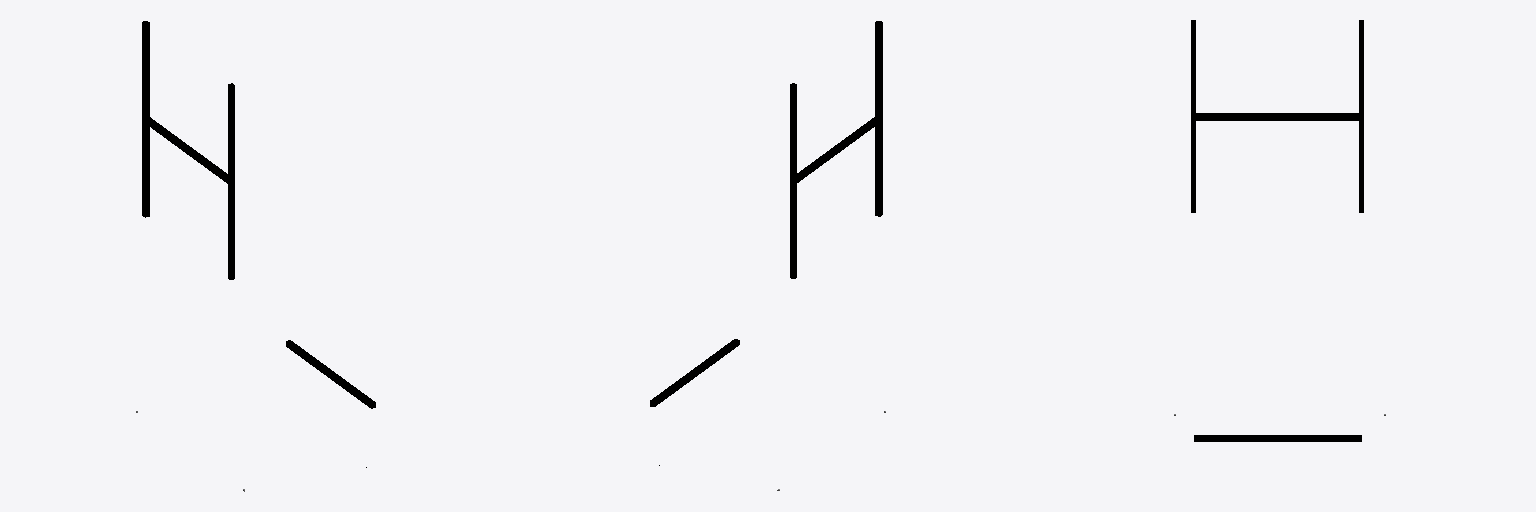
URDF robot description (wheelchair2):
<?xml version="1.0" ?>
<!-- =================================================================================== -->
<!-- |    This document was autogenerated by xacro from wheelchair2_camera_lidar.urdf.xacro | -->
<!-- |    EDITING THIS FILE BY HAND IS NOT RECOMMENDED                                 | -->
<!-- =================================================================================== -->
<robot name="wheelchair2">
  <material name="grey">
    <color rgba="0.5 0.5 0.5 1.0"/>
  </material>
  <material name="black">
    <color rgba="0.0 0.0 0.0 1.0"/>
  </material>
  <material name="red">
    <color rgba="1.0 0.0 0.0 1.0"/>
  </material>
  <material name="green">
    <color rgba="0.0 1.0 0.0 1.0"/>
  </material>
  <gazebo>
    <!-- 	<plugin name='diff_drive' filename='libgazebo_ros_diff_drive.so'> -->
    <!-- 		<left_joint>chassis_to_left_wheel</left_joint> -->
    <!-- 		<right_joint>chassis_to_right_wheel</right_joint> -->
    <!-- 		<wheel_separation>0.48</wheel_separation> -->
    <!-- 		<wheel_diameter>0.31</wheel_diameter> -->
    <!-- 		<max_wheel_torque>40</max_wheel_torque> -->
    <!-- 		<max_wheel_acceleration>1.0</max_wheel_acceleration> -->
    <!-- 		<odometry_frame>odom</odometry_frame> -->
    <!-- 		<robot_base_frame>base_link</robot_base_frame> -->
    <!-- 		<publish_odom>true</publish_odom> -->
    <!-- 		<publish_odom_tf>true</publish_odom_tf> -->
    <!-- 		<publish_wheel_tf>false</publish_wheel_tf> -->
    <!-- 	</plugin> -->
    <!-- </gazebo> -->
    <plugin filename="gz-sim-diff-drive-system" name="gz::sim::systems::DiffDrive">
      <!-- Remove <ros> tag. -->
      <!-- wheels -->
      <left_joint>chassis_to_left_wheel</left_joint>
      <right_joint>chassis_to_right_wheel</right_joint>
      <!-- kinematics -->
      <wheel_separation>0.48</wheel_separation>
      <wheel_radius>0.155</wheel_radius>
      <!-- computed from <wheel_diameter> in the original
			plugin-->
      <!-- limits -->
      <max_linear_acceleration>0.155</max_linear_acceleration>
      <!-- computed from
		<max_linear_acceleration> in the original plugin-->
      <topic>cmd_vel</topic>
      <!-- from <commant_topic> -->
      <odom_topic>odom</odom_topic>
      <!-- from <odometry_topic> -->
      <frame_id>odom</frame_id>
      <!-- from <odometry_frame> -->
      <child_frame_id>base_link</child_frame_id>
      <!-- from <robot_base_frame> -->
      <odom_publisher_frequency>30</odom_publisher_frequency>
      <!-- from <update_rate>-->
      <tf_topic>/tf</tf_topic>
      <!-- Short topic name for tf output -->
    </plugin>
  </gazebo>
  <!--Gazebo
	related physics values of left wheel joint-->
  <gazebo reference="chassis_to_left_wheel">
    <mu1 value="10000.0"/>
    <mu2 value="10000.0"/>
    <fdir1 value="0 0 1"/>
    <kp value="300"/>
    <!--500000-->
    <kd value="10"/>
    <!--10-->
    <ki value="200"/>
    <maxVel value="2.0"/>
    <minDepth value="0.0001"/>
  </gazebo>
  <!-- Gazebo related physics values of right wheel joint-->
  <gazebo reference="chassis_to_right_wheel">
    <mu1 value="10000.0"/>
    <mu2 value="10000.0"/>
    <fdir1 value="0 0 1"/>
    <kp value="300"/>
    <kd value="10"/>
    <ki value="200"/>
    <maxVel value="2.0"/>
    <minDepth value="0.0001"/>
  </gazebo>
  <gazebo reference="chassis">
    <material>Gazebo/FlatBlack</material>
  </gazebo>
  <gazebo reference="caster1">
    <material>Gazebo/White</material>
    <mu1>0.0</mu1>
    <mu2>0.0</mu2>
    <fdir1>0 0 0</fdir1>
    <kp>1000000.0</kp>
    <kd>100.0</kd>
    <minDepth>0.001</minDepth>
    <maxVel>1.0</maxVel>
  </gazebo>
  <gazebo reference="caster2">
    <material>Gazebo/White</material>
    <mu1>0.0</mu1>
    <mu2>0.0</mu2>
    <kp>1000000.0</kp>
    <kd>100.0</kd>
    <minDepth>0.001</minDepth>
    <maxVel>1.0</maxVel>
  </gazebo>
  <gazebo reference="rod1">
    <material>Gazebo/Grey</material>
  </gazebo>
  <gazebo reference="rod2">
    <material>Gazebo/Grey</material>
  </gazebo>
  <gazebo reference="camera_base_rod">
    <material>Gazebo/Grey</material>
  </gazebo>
  <gazebo reference="lidar_base_rod">
    <material>Gazebo/Grey</material>
  </gazebo>
  <gazebo reference="rplidar">
    <material>Gazebo/DarkGrey</material>
    <sensor name="laser" type="gpu_lidar">
      <pose> 0 0 0 0 0 0 </pose>
      <visualize>false</visualize>
      <update_rate>15</update_rate>
      <topic>scan</topic>
      <gz_frame_id>rplidar</gz_frame_id>
      <lidar>
        <scan>
          <horizontal>
            <samples>720</samples>
            <min_angle>-1.57</min_angle>
            <max_angle>1.57</max_angle>
          </horizontal>
        </scan>
        <range>
          <min>0.1</min>
          <max>25</max>
        </range>
        <noise>
          <type>gaussian</type>
          <!-- Noise parameters based on published spec for Hokuyo laser
               achieving "+-30mm" accuracy at range < 10m.  A mean of 0.0m and
               stddev of 0.01m will put 99.7% of samples within 0.03m of the true
               reading. -->
          <mean>0.0</mean>
          <stddev>0.01</stddev>
        </noise>
      </lidar>
    </sensor>
  </gazebo>
  <link name="base_link"/>
  <joint name="base_joint" type="fixed">
    <parent link="base_link"/>
    <child link="chassis"/>
    <origin rpy="0 0 0" xyz="0.22 0.0 0.2"/>
  </joint>
  <link name="chassis">
    <pose>0 0 0.1 0 0 0</pose>
    <inertial>
      <!-- ALL MASSES IN KILOGRAM-->
      <mass value="8.96"/>
      <origin rpy=" 0 0 0" xyz="0 0 0"/>
      <!-- ALL INERTIA VALUES IN KILOGRAM PER SQUARE METER-->
      <!-- NOTE: z=c x=b y=a -->
      <inertia ixx="6.47" ixy="-0.12" ixz="-1.17" iyy="8.54" iyz="0.29" izz="8.54"/>
    </inertial>
    <collision>
      <origin rpy=" 0 0 0" xyz="0.1 0 0"/>
      <geometry>
        <box size="0.75 0.60 0.60"/>
      </geometry>
      <material name="black"/>
    </collision>
    <visual>
      <origin rpy=" 0 0 3.14" xyz="0 0 0"/>
      <geometry>
        <mesh filename="file:///home/radtop/ros2/wheelchair_ws/install/wheelchair2_description/share/wheelchair2_description/meshes/wheelchair2.dae" scale="0.01 0.01 0.01"/>
      </geometry>
      <material name="black"/>
    </visual>
  </link>
  <link name="left_wheel">
    <inertial>
      <!--Inertial
				valuse include origin, mass and inertias as per CAD model-->
      <mass value="0.10441"/>
      <origin rpy="0 0 0" xyz="0 0 0.027"/>
      <inertia ixx="0.1000000042" ixy="0" ixz="0" iyy="0.1000000042" iyz="0" izz="0.100000004"/>
      <!--
				Taken at the output coordinate system-->
    </inertial>
    <collision>
      <!-- Collision values include dimensions and origin-->
      <origin rpy="0 0 0" xyz="0 0 0.027"/>
      <geometry>
        <cylinder length="0.06" radius="0.155"/>
      </geometry>
    </collision>
    <visual>
      <!-- Visual valuse include origin, material and mesh to make model look similar to
				real robot-->
      <origin rpy="0 0 0" xyz="0 0 0.027"/>
      <geometry>
        <cylinder length="0.005" radius="0.0028"/>
        <!-- <mesh filename="${filename}" scale="${scale}"/> -->
      </geometry>
      <material name="grey"/>
    </visual>
  </link>
  <joint name="chassis_to_left_wheel" type="continuous">
    <axis rpy="0 0 0" xyz="0 0 1"/>
    <limit effort="100" velocity="20"/>
    <origin rpy="-1.57 0 0" xyz="-0.22 0.28 -0.285"/>
    <dynamics damping="1.0" friction="200000.0"/>
    <parent link="chassis"/>
    <child link="left_wheel"/>
  </joint>
  <!-- <transmission name="trans_${name}"> -->
  <!-- 	<type>transmission_interface/SimpleTransmission</type> -->
  <!-- 	<joint name="${name}"> -->
  <!-- 		<hardwareInterface>hardware_interface/EffortJointInterface</hardwareInterface> -->
  <!-- 	</joint> -->
  <!-- 	<actuator name="motor_${name}"> -->
  <!-- 		<hardwareInterface>hardware_interface/EffortJointInterface</hardwareInterface> -->
  <!-- 		<mechanicalReduction>1</mechanicalReduction> -->
  <!-- 	</actuator> -->
  <!-- </transmission> -->
  <!--  inertia values are added by 0.1 in both left and right wheel to avoid collapsing of model in
	gazebo-->
  <link name="right_wheel">
    <inertial>
      <!--Inertial
				valuse include origin, mass and inertias as per CAD model-->
      <mass value="0.10441"/>
      <origin rpy="0 0 0" xyz="0 0 0.027"/>
      <inertia ixx="0.1000000042" ixy="0" ixz="0" iyy="0.1000000042" iyz="0" izz="0.100000004"/>
      <!--
				Taken at the output coordinate system-->
    </inertial>
    <collision>
      <!-- Collision values include dimensions and origin-->
      <origin rpy="0 0 0" xyz="0 0 0.027"/>
      <geometry>
        <cylinder length="0.06" radius="0.155"/>
      </geometry>
    </collision>
    <visual>
      <!-- Visual valuse include origin, material and mesh to make model look similar to
				real robot-->
      <origin rpy="0 0 0" xyz="0 0 0.027"/>
      <geometry>
        <cylinder length="0.005" radius="0.0028"/>
        <!-- <mesh filename="${filename}" scale="${scale}"/> -->
      </geometry>
      <material name="grey"/>
    </visual>
  </link>
  <joint name="chassis_to_right_wheel" type="continuous">
    <axis rpy="0 0 0" xyz="0 0 1"/>
    <limit effort="100" velocity="20"/>
    <origin rpy="-1.57 0 0" xyz="-0.22 -0.32 -0.285"/>
    <dynamics damping="1.0" friction="200000.0"/>
    <parent link="chassis"/>
    <child link="right_wheel"/>
  </joint>
  <!-- <transmission name="trans_${name}"> -->
  <!-- 	<type>transmission_interface/SimpleTransmission</type> -->
  <!-- 	<joint name="${name}"> -->
  <!-- 		<hardwareInterface>hardware_interface/EffortJointInterface</hardwareInterface> -->
  <!-- 	</joint> -->
  <!-- 	<actuator name="motor_${name}"> -->
  <!-- 		<hardwareInterface>hardware_interface/EffortJointInterface</hardwareInterface> -->
  <!-- 		<mechanicalReduction>1</mechanicalReduction> -->
  <!-- 	</actuator> -->
  <!-- </transmission> -->
  <!-- Caster 1,2 and there joints with Base Link-->
  <link name="caster1">
    <inertial>
      <!--Inertial
				valuse include origin, mass and inertias as per CAD model-->
      <mass value="0.45164"/>
      <origin rpy="0 0 0" xyz="0 0 0"/>
      <inertia ixx="0.100000005621" ixy="0.10000000131" ixz="0.100000001649" iyy="0.100000004345" iyz="0.10000000236" izz="0.100000003315"/>
    </inertial>
    <collision>
      <!-- Collision values include dimensions and origin-->
      <origin rpy="0 0 0" xyz="0 0 0"/>
      <geometry>
        <sphere radius="0.1"/>
      </geometry>
    </collision>
    <visual>
      <!-- Visual valuse include origin, material and mesh to make model look similar to
				real robot-->
      <origin rpy="0 0 0" xyz="0 0 0"/>
      <geometry>
        <sphere radius="0.001"/>
        <!-- <mesh filename="${filename}" scale="${scale}"/> -->
      </geometry>
      <material name="black"/>
    </visual>
  </link>
  <joint name="chassis_to_caster1" type="fixed">
    <axis xyz="0 0 0"/>
    <origin rpy="0 0 0" xyz="0.2 -0.25 -0.33"/>
    <parent link="chassis"/>
    <child link="caster1"/>
  </joint>
  <link name="caster2">
    <inertial>
      <!--Inertial
				valuse include origin, mass and inertias as per CAD model-->
      <mass value="0.45164"/>
      <origin rpy="0 0 0" xyz="0 0 0"/>
      <inertia ixx="0.100000005621" ixy="0.10000000131" ixz="0.100000001649" iyy="0.100000004345" iyz="0.10000000236" izz="0.100000003315"/>
    </inertial>
    <collision>
      <!-- Collision values include dimensions and origin-->
      <origin rpy="0 0 0" xyz="0 0 0"/>
      <geometry>
        <sphere radius="0.1"/>
      </geometry>
    </collision>
    <visual>
      <!-- Visual valuse include origin, material and mesh to make model look similar to
				real robot-->
      <origin rpy="0 0 0" xyz="0 0 0"/>
      <geometry>
        <sphere radius="0.001"/>
        <!-- <mesh filename="${filename}" scale="${scale}"/> -->
      </geometry>
      <material name="black"/>
    </visual>
  </link>
  <joint name="chassis_to_caster2" type="fixed">
    <axis xyz="0 0 0"/>
    <origin rpy="0 0 0" xyz="0.2 0.25 -0.33"/>
    <parent link="chassis"/>
    <child link="caster2"/>
  </joint>
  <link name="rod1">
    <inertial>
      <!--Inertial
				valuse include origin, mass and inertias as per CAD model-->
      <mass value="0.45164"/>
      <origin rpy="0 0 0" xyz="0 0 0"/>
      <inertia ixx="0.100000005621" ixy="0.10000000131" ixz="0.100000001649" iyy="0.100000004345" iyz="0.10000000236" izz="0.100000003315"/>
      <!--
				Taken at the output coordinate system-->
    </inertial>
    <collision>
      <!-- Collision values include dimensions and origin-->
      <origin rpy="0 0 0" xyz="0 0 0"/>
      <geometry>
        <box size="0.016 0.016 0.6"/>
      </geometry>
    </collision>
    <visual>
      <!-- Visual valuse include origin, material and mesh to make model look similar to
				real robot-->
      <origin rpy="0 0 0" xyz="0 0 0"/>
      <geometry>
        <box size="0.016 0.016 0.6"/>
      </geometry>
      <material name="black"/>
    </visual>
  </link>
  <joint name="chassis_to_rod1" type="fixed">
    <axis xyz="0 0 0"/>
    <origin rpy="0 0 0" xyz="-0.23 0.24 0.65"/>
    <parent link="chassis"/>
    <child link="rod1"/>
  </joint>
  <link name="rod2">
    <inertial>
      <!--Inertial
				valuse include origin, mass and inertias as per CAD model-->
      <mass value="0.45164"/>
      <origin rpy="0 0 0" xyz="0 0 0"/>
      <inertia ixx="0.100000005621" ixy="0.10000000131" ixz="0.100000001649" iyy="0.100000004345" iyz="0.10000000236" izz="0.100000003315"/>
      <!--
				Taken at the output coordinate system-->
    </inertial>
    <collision>
      <!-- Collision values include dimensions and origin-->
      <origin rpy="0 0 0" xyz="0 0 0"/>
      <geometry>
        <box size="0.016 0.016 0.6"/>
      </geometry>
    </collision>
    <visual>
      <!-- Visual valuse include origin, material and mesh to make model look similar to
				real robot-->
      <origin rpy="0 0 0" xyz="0 0 0"/>
      <geometry>
        <box size="0.016 0.016 0.6"/>
      </geometry>
      <material name="black"/>
    </visual>
  </link>
  <joint name="chassis_to_rod2" type="fixed">
    <axis xyz="0 0 0"/>
    <origin rpy="0 0 0" xyz="-0.23 -0.24 0.65"/>
    <parent link="chassis"/>
    <child link="rod2"/>
  </joint>
  <link name="camera_base_rod">
    <inertial>
      <!--Inertial
				valuse include origin, mass and inertias as per CAD model-->
      <mass value="0.45164"/>
      <origin rpy="0 0 0" xyz="0 0 0"/>
      <inertia ixx="0.100000005621" ixy="0.10000000131" ixz="0.100000001649" iyy="0.100000004345" iyz="0.10000000236" izz="0.100000003315"/>
      <!--
				Taken at the output coordinate system-->
    </inertial>
    <collision>
      <!-- Collision values include dimensions and origin-->
      <origin rpy="0 0 0" xyz="0 0 0"/>
      <geometry>
        <box size="0.016 0.48 0.016"/>
      </geometry>
    </collision>
    <visual>
      <!-- Visual valuse include origin, material and mesh to make model look similar to
				real robot-->
      <origin rpy="0 0 0" xyz="0 0 0"/>
      <geometry>
        <box size="0.016 0.48 0.016"/>
      </geometry>
      <material name="black"/>
    </visual>
  </link>
  <joint name="chassis_to_camera_base_rod" type="fixed">
    <axis xyz="0 0 0"/>
    <origin rpy="0 0 0" xyz="-0.23 0 0.650"/>
    <parent link="chassis"/>
    <child link="camera_base_rod"/>
  </joint>
  <link name="lidar_base_rod">
    <inertial>
      <!--Inertial
				valuse include origin, mass and inertias as per CAD model-->
      <mass value="0.45164"/>
      <origin rpy="0 0 0" xyz="0 0 0"/>
      <inertia ixx="0.100000005621" ixy="0.10000000131" ixz="0.100000001649" iyy="0.100000004345" iyz="0.10000000236" izz="0.100000003315"/>
      <!--
				Taken at the output coordinate system-->
    </inertial>
    <collision>
      <!-- Collision values include dimensions and origin-->
      <origin rpy="0 0 0" xyz="0 0 0"/>
      <geometry>
        <box size="0.016 0.48 0.016"/>
      </geometry>
    </collision>
    <visual>
      <!-- Visual valuse include origin, material and mesh to make model look similar to
				real robot-->
      <origin rpy="0 0 0" xyz="0 0 0"/>
      <geometry>
        <box size="0.016 0.48 0.016"/>
      </geometry>
      <material name="black"/>
    </visual>
  </link>
  <joint name="chassis_to_lidar_base_rod" type="fixed">
    <axis xyz="0 0 0"/>
    <origin rpy="0 0 0" xyz="0.23 0 -0.15"/>
    <parent link="chassis"/>
    <child link="lidar_base_rod"/>
  </joint>
  <link name="rplidar">
    <inertial>
      <!--Inertial
				valuse include origin, mass and inertias as per CAD model-->
      <mass value="0.10441"/>
      <origin rpy="0 0 0" xyz="0 0 0"/>
      <inertia ixx="0.1000000042" ixy="0" ixz="0" iyy="0.1000000042" iyz="0" izz="0.100000004"/>
      <!--
				Taken at the output coordinate system-->
    </inertial>
    <collision>
      <!-- Collision values include dimensions and origin-->
      <origin rpy="0 0 0" xyz="0 0 0"/>
      <geometry>
        <mesh filename="file:///home/radtop/ros2/wheelchair_ws/install/wheelchair2_description/share/wheelchair2_description/meshes/rplidar.dae" scale="1 1 1"/>
      </geometry>
    </collision>
    <visual>
      <!-- Visual valuse include origin, material and mesh to make model look similar to
				real robot-->
      <origin rpy="0 0 0" xyz="0 0 0"/>
      <geometry>
        <mesh filename="file:///home/radtop/ros2/wheelchair_ws/install/wheelchair2_description/share/wheelchair2_description/meshes/rplidar.dae" scale="1 1 1"/>
      </geometry>
      <material name="black"/>
    </visual>
  </link>
  <joint name="chassis_to_rplidar" type="fixed">
    <axis xyz="0 0 0"/>
    <origin rpy="0 0 0" xyz="0.53 0 -0.15"/>
    <parent link="chassis"/>
    <child link="rplidar"/>
  </joint>
  <material name="camera_aluminum">
    <color rgba="0.5 0.5 0.5 1"/>
  </material>
  <!-- camera body, with origin at bottom screw mount -->
  <joint name="camera_joint" type="fixed">
    <origin rpy="0 -0.01 0" xyz="0.20 -0.24 0.50"/>
    <parent link="base_link"/>
    <child link="camera_bottom_screw_frame"/>
  </joint>
  <link name="camera_bottom_screw_frame"/>
  <joint name="camera_link_joint" type="fixed">
    <origin rpy="0 0 0" xyz="0.1 0.0175 0.0125"/>
    <parent link="camera_bottom_screw_frame"/>
    <child link="camera_link"/>
  </joint>
  <link name="camera_link">
    <visual>
      <origin rpy="1.5707963267948966 0 1.5707963267948966" xyz="0.0149 -0.0175 0"/>
      <geometry>
        <!-- <box size="${d435_cam_width} ${d435_cam_height} ${d435_cam_depth}"/> -->
        <mesh filename="file:///home/radtop/ros2/wheelchair_ws/install/wheelchair2_description/share/wheelchair2_description/meshes/d435.dae"/>
        <!--<mesh
					filename="file://$(find realsense2_description)/meshes/d435/d435.dae" />-->
      </geometry>
      <material name="camera_aluminum"/>
    </visual>
    <collision>
      <origin rpy="0 0 0" xyz="0 -0.0175 0"/>
      <geometry>
        <box size="0.02505 0.09 0.025"/>
      </geometry>
    </collision>
    <inertial>
      <!-- The following are not reliable values, and should not be used for modeling -->
      <mass value="0.564"/>
      <origin xyz="0 0 0"/>
      <inertia ixx="0.003881243" ixy="0.0" ixz="0.0" iyy="0.000498940" iyz="0.0" izz="0.003879257"/>
    </inertial>
  </link>
  <!-- camera depth joints and links -->
  <joint name="camera_depth_joint" type="fixed">
    <origin rpy="0 0 0" xyz="0 0 0"/>
    <parent link="camera_link"/>
    <child link="camera_depth_frame"/>
  </joint>
  <link name="camera_depth_frame"/>
  <joint name="camera_depth_optical_joint" type="fixed">
    <origin rpy="-1.5707963267948966 0 -1.5707963267948966" xyz="0 0 0"/>
    <parent link="camera_depth_frame"/>
    <child link="camera_depth_optical_frame"/>
  </joint>
  <link name="camera_depth_optical_frame"/>
  <!-- camera left IR joints and links -->
  <joint name="camera_left_ir_joint" type="fixed">
    <origin rpy="0 0 0" xyz="0 0.0 0"/>
    <parent link="camera_depth_frame"/>
    <child link="camera_left_ir_frame"/>
  </joint>
  <link name="camera_left_ir_frame"/>
  <joint name="camera_left_ir_optical_joint" type="fixed">
    <origin rpy="-1.5707963267948966 0 -1.5707963267948966" xyz="0 0 0"/>
    <parent link="camera_left_ir_frame"/>
    <child link="camera_left_ir_optical_frame"/>
  </joint>
  <link name="camera_left_ir_optical_frame"/>
  <!-- camera right IR joints and links -->
  <joint name="camera_right_ir_joint" type="fixed">
    <origin rpy="0 0 0" xyz="0 -0.05 0"/>
    <parent link="camera_depth_frame"/>
    <child link="camera_right_ir_frame"/>
  </joint>
  <link name="camera_right_ir_frame"/>
  <joint name="camera_right_ir_optical_joint" type="fixed">
    <origin rpy="-1.5707963267948966 0 -1.5707963267948966" xyz="0 0 0"/>
    <parent link="camera_right_ir_frame"/>
    <child link="camera_right_ir_optical_frame"/>
  </joint>
  <link name="camera_right_ir_optical_frame"/>
  <!-- camera color joints and links -->
  <joint name="camera_color_joint" type="fixed">
    <origin rpy="0 0 0" xyz="0 0.015 0"/>
    <parent link="camera_depth_frame"/>
    <child link="camera_color_frame"/>
  </joint>
  <link name="camera_color_frame"/>
  <joint name="camera_color_optical_joint" type="fixed">
    <origin rpy="-1.5707963267948966 0 -1.5707963267948966" xyz="0 0 0"/>
    <parent link="camera_color_frame"/>
    <child link="camera_color_optical_frame"/>
  </joint>
  <link name="camera_color_optical_frame"/>
  <!-- Realsense Gazebo Plugin -->
  <gazebo reference="camera_link">
    <material>Gazebo/Red</material>
    <sensor name="rgbd_camera" type="rgbd_camera">
      <pose>0 0 0 0 0 0</pose>
      <visualize>false</visualize>
      <always_on>1</always_on>
      <update_rate>60</update_rate>
      <camera>
        <horizontal_fov>1.2112585008840648</horizontal_fov>
        <image>
          <width>1920</width>
          <height>1080</height>
        </image>
        <clip>
          <near>0.1</near>
          <far>100</far>
        </clip>
        <optical_frame_id>camera_color_optical_frame</optical_frame_id>
      </camera>
    </sensor>
    <!-- <sensor name="depth" type="depth"> -->
    <!-- 	<camera> -->
    <!-- 		<horizontal_fov>${85.2*0.01745329251994329577}</horizontal_fov> -->
    <!-- 		<image> -->
    <!-- 			<width>1280</width> -->
    <!-- 			<height>720</height> -->
    <!-- 		</image> -->
    <!-- 		<clip> -->
    <!-- 			<near>0.1</near> -->
    <!-- 			<far>100</far> -->
    <!-- 		</clip> -->
    <!-- 		<noise> -->
    <!-- 			<type>gaussian</type> -->
    <!-- 			<mean>0.0</mean> -->
    <!-- 			<stddev>0.100</stddev> -->
    <!-- 		</noise> -->
    <!-- 	</camera> -->
    <!-- 	<always_on>1</always_on> -->
    <!-- 	<update_rate>90</update_rate> -->
    <!-- 	<visualize>0</visualize> -->
    <!-- 	<plugin name="color_controller" filename="libgazebo_ros_camera.so"> -->
    <!-- 		<camera_name>camera</camera_name> -->
    <!-- 		<min_depth>0.1</min_depth> -->
    <!-- 		<max_depth>500</max_depth> -->
    <!-- 	</plugin> -->
    <!-- </sensor> -->
  </gazebo>
  <!-- Gazebo Plugin-->
  <!-- <gazebo> -->
  <!-- 	<plugin name="gazebo_ros2_control" filename="libgazebo_ros2_control.so"> -->
  <!-- 		<legacyModeNS>true</legacyModeNS> -->
  <!-- 	</plugin> -->
  <!-- </gazebo> -->
</robot>

--- Facts derived from the render (not from the file) ---
Views: 3 orthographic renders of the robot side by side, from view 1: azimuth 30°, elevation 25°; view 2: azimuth 150°, elevation 25°; view 3: azimuth 270°, elevation 25°.
Robot: wheelchair2 — 21 links, 20 joints (2 continuous, 18 fixed); root link base_link; default pose: all joints at 0.
Links seen in each view (by area): view 1: rod1, rod2, lidar_base_rod, camera_base_rod; view 2: rod2, rod1, lidar_base_rod, camera_base_rod; view 3: camera_base_rod, lidar_base_rod, rod1, rod2.
Link boxes in pixels (box(x1,y1,x2,y2)): rod1: box(142, 21, 149, 217); rod2: box(228, 83, 234, 279); lidar_base_rod: box(286, 340, 375, 408); camera_base_rod: box(145, 117, 228, 183); rod2: box(875, 21, 882, 216); rod1: box(790, 83, 796, 278); lidar_base_rod: box(650, 339, 739, 406); camera_base_rod: box(796, 117, 880, 182); camera_base_rod: box(1195, 113, 1361, 120); lidar_base_rod: box(1194, 435, 1361, 441); rod1: box(1359, 20, 1363, 212); rod2: box(1191, 20, 1195, 212).
Size in the robot's own frame: 0.476 by 0.605 by 1.28 metres.
Geometry: only primitive shapes (box / cylinder / sphere) drawn; not drawn: 3 mesh visuals (reference in a form the renderer does not follow).
